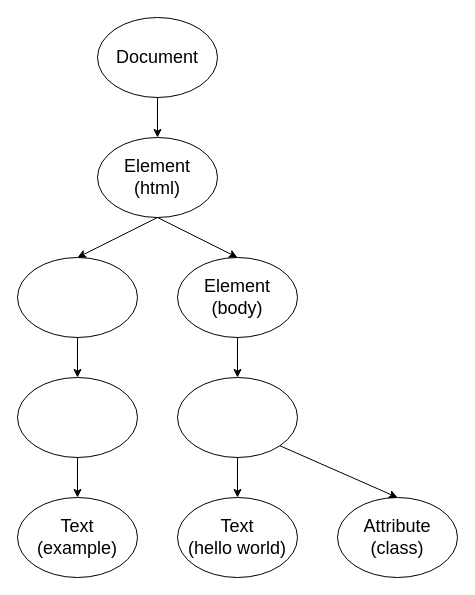
This 475x595 diagram has some shape labels left out. Here are the shapes that lost their labels. From the top down, the centre of each, then its label:
point 77,297: Element (head)
point 77,417: Element (title)
point 237,417: Element (h1)
